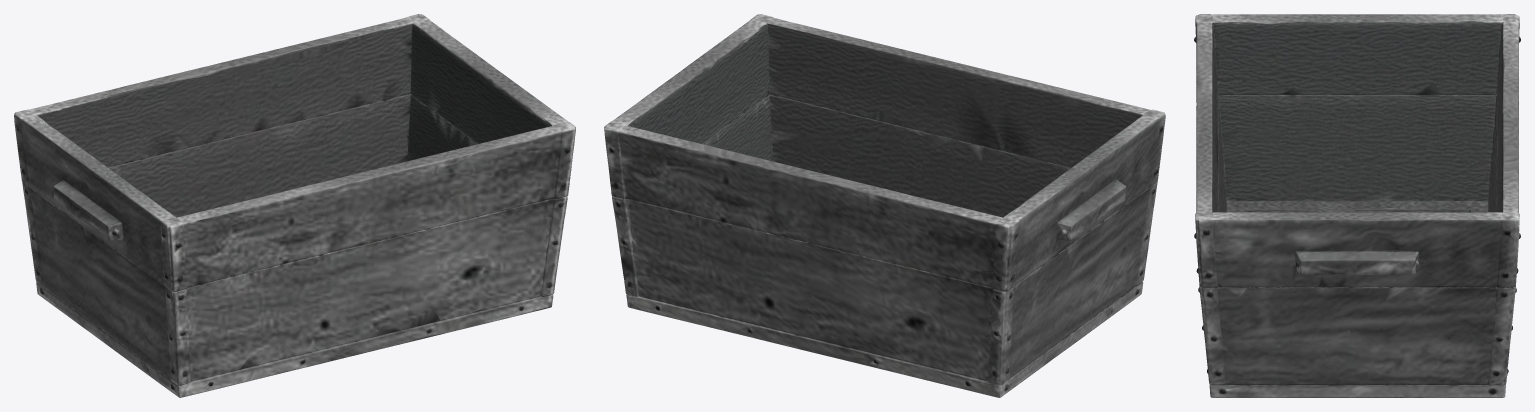
File: crate.glb
3 views of the same model, side by side, from view 1: azimuth 30°, elevation 25°; view 2: azimuth 150°, elevation 25°; view 3: azimuth 270°, elevation 25° (orthographic). The views are drawn at different scales.
Bounding box in the file's own units: 1.9 × 0.7696 × 1.21.
Materials: 1 (1 with a texture image).
